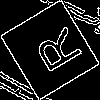R: (25, 25, 84, 80)
